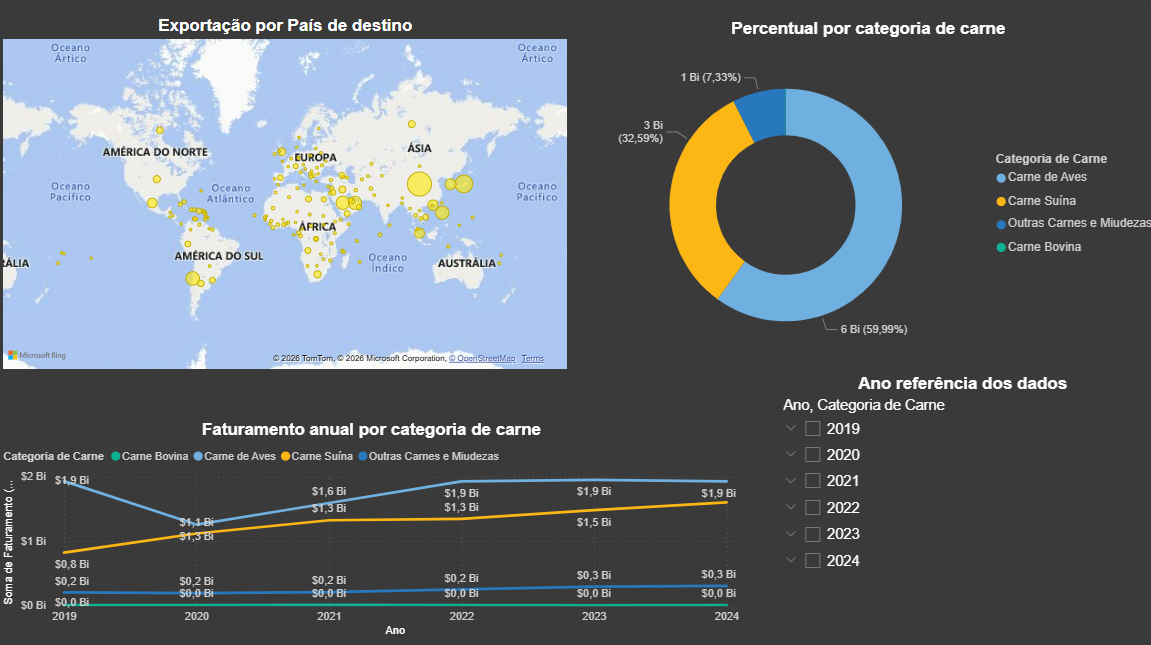

This screenshot's page, from the dashboard's own definition file:
{"tool":"powerbi","page":{"name":"Página 1","canvas":[1280,720],"ordinal":0},"visuals":[{"type":"map","title":"Exportação por País de destino","fields":{"Category":["base_pronta_powerbi.País de Destino"],"Size":["Sum(base_pronta_powerbi.Faturamento (US$))"]},"box":[0,20.6,628.5,392.5],"z":0},{"type":"lineChart","title":"Faturamento anual por categoria de carne","fields":{"Category":["base_pronta_powerbi.Ano"],"Y":["Sum(base_pronta_powerbi.Faturamento (US$))"],"Series":["base_pronta_powerbi.Categoria de Carne"]},"box":[0,463.8,817.8,242.9],"z":1000},{"type":"donutChart","title":"Percentual por categoria de carne","fields":{"Category":["base_pronta_powerbi.Categoria de Carne"],"Y":["Sum(base_pronta_powerbi.Volume (Kg))"]},"box":[628.5,23.3,651.8,389.7],"z":2000},{"type":"slicer","title":"Ano referência dos dados","fields":{"Values":["base_pronta_powerbi.Ano","base_pronta_powerbi.Categoria de Carne"]},"box":[848,413,419.9,307.4],"z":3000}]}

Visuals, with their boxes in screenshot pixels (x1, y1, x2, y2), scaled from the page's 1280x720 canvas onto the 1151x645 screenshot:
"Exportação por País de destino" map: 0/18/565/370
"Faturamento anual por categoria de carne" lineChart: 0/415/735/633
"Percentual por categoria de carne" donutChart: 565/21/1150/370
"Ano referência dos dados" slicer: 763/370/1140/644
